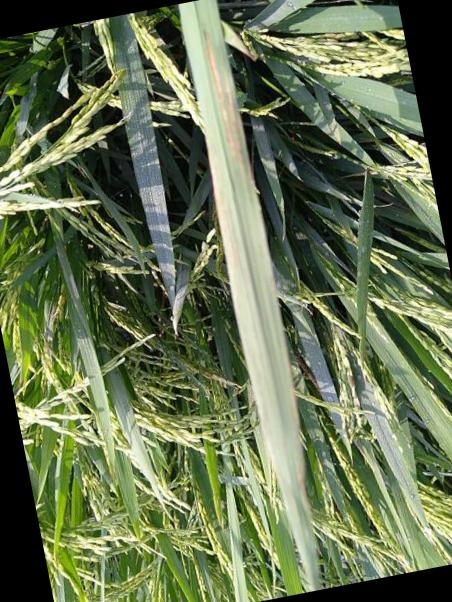Leaf Streak: (203, 18, 253, 184), (287, 461, 322, 591)
